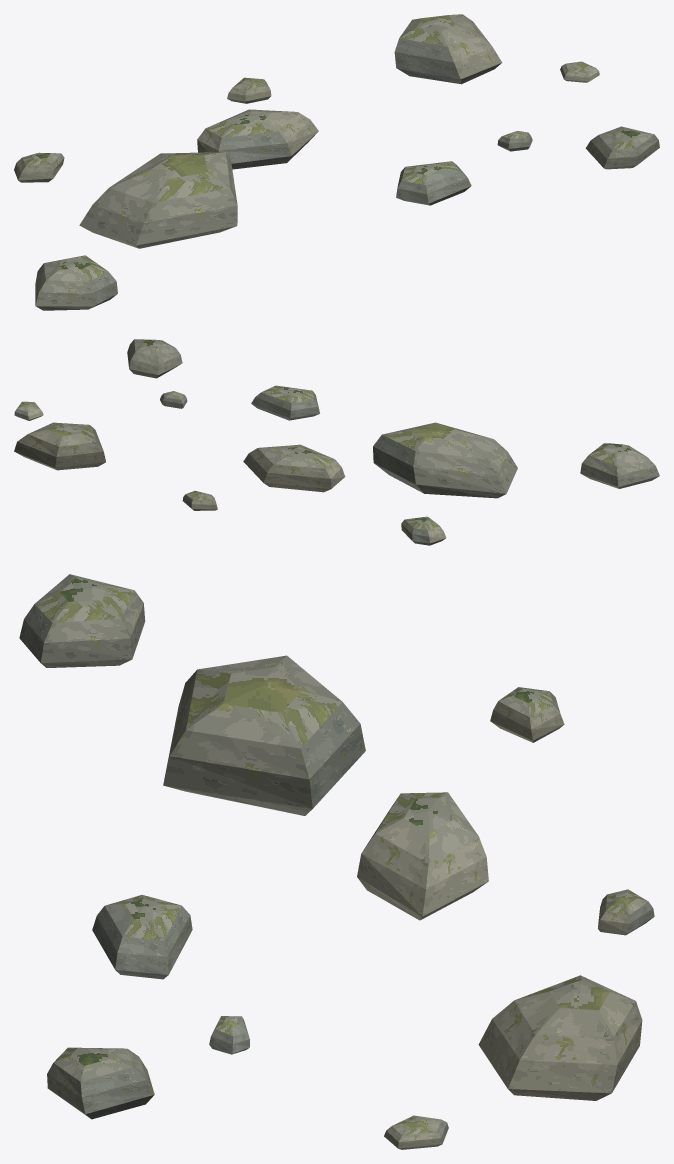
File: gravel_talus.glb
3 renders of one model, top to bottom at view 1: azimuth 30°, elevation 25°; view 2: azimuth 150°, elevation 25°; view 3: azimuth 270°, elevation 25°, orthographic. The views are drawn at different scales.
Parts seen in each view (by area): view 1: gravel_talus; view 2: gravel_talus; view 3: gravel_talus.
Boxes of the visible parts, bbox=[...] form: gravel_talus: bbox=[14, 14, 659, 310]; gravel_talus: bbox=[14, 339, 659, 545]; gravel_talus: bbox=[19, 574, 654, 1149].
Size of the model in its own units: 1.02 by 0.0811 by 0.5051.
1 material, 1 textured.
